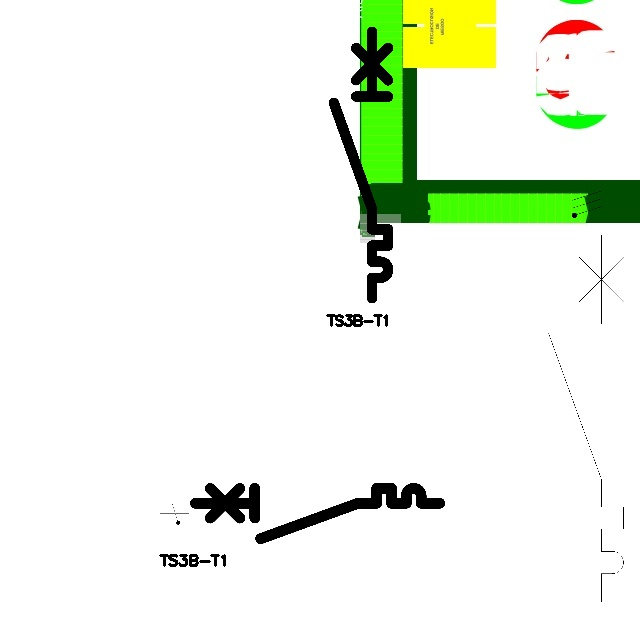interruptor_termomagnetico: (539, 225, 633, 611), (327, 25, 395, 305), (189, 482, 446, 544)
